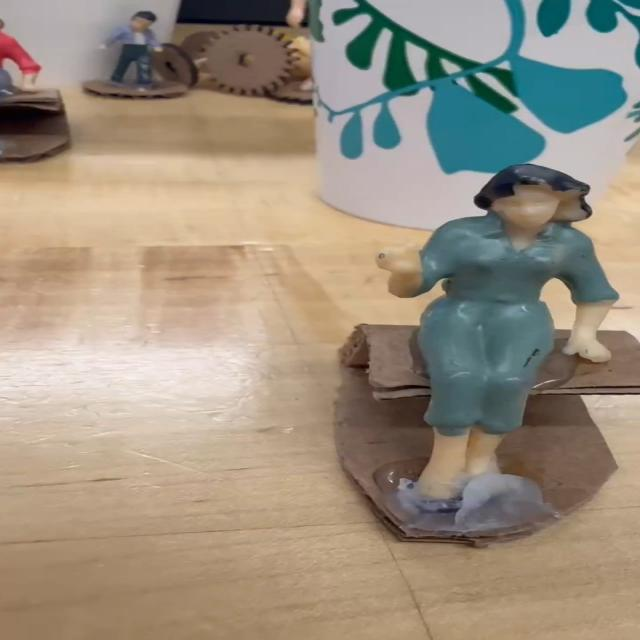Authorized: (284, 156, 640, 605)
